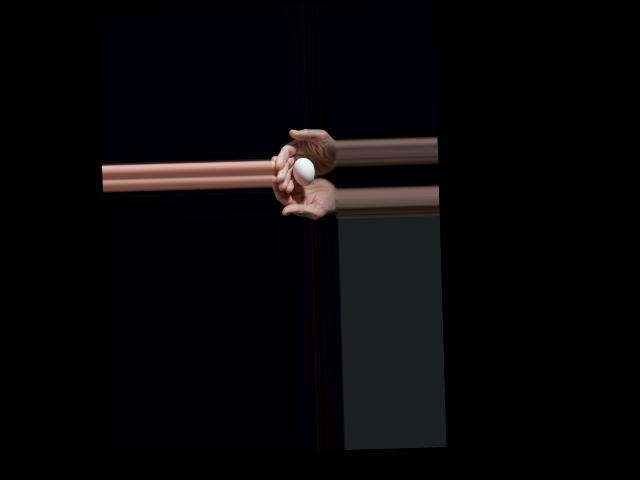egg: (292, 156, 315, 186)
